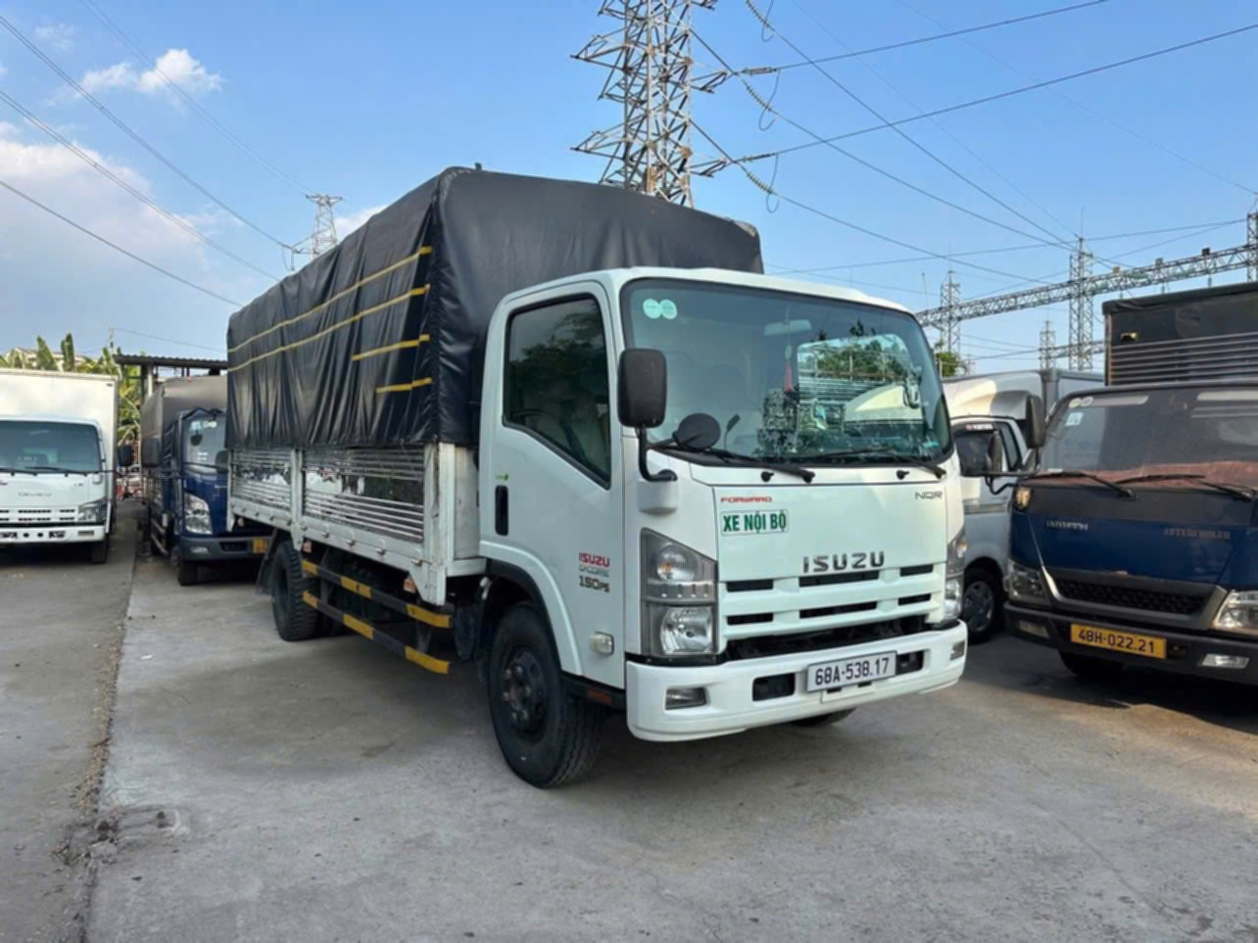Bien-so: (792, 673, 884, 723)
